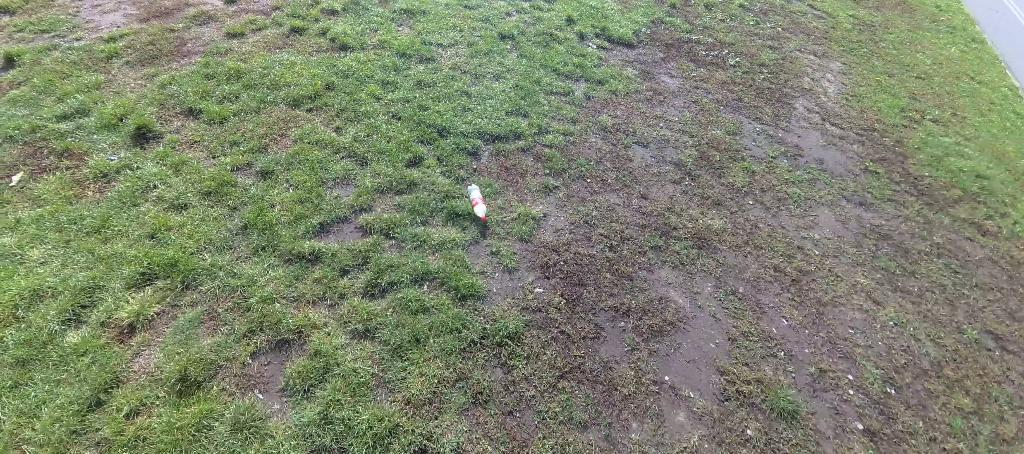garbage: (466, 183, 489, 226)
